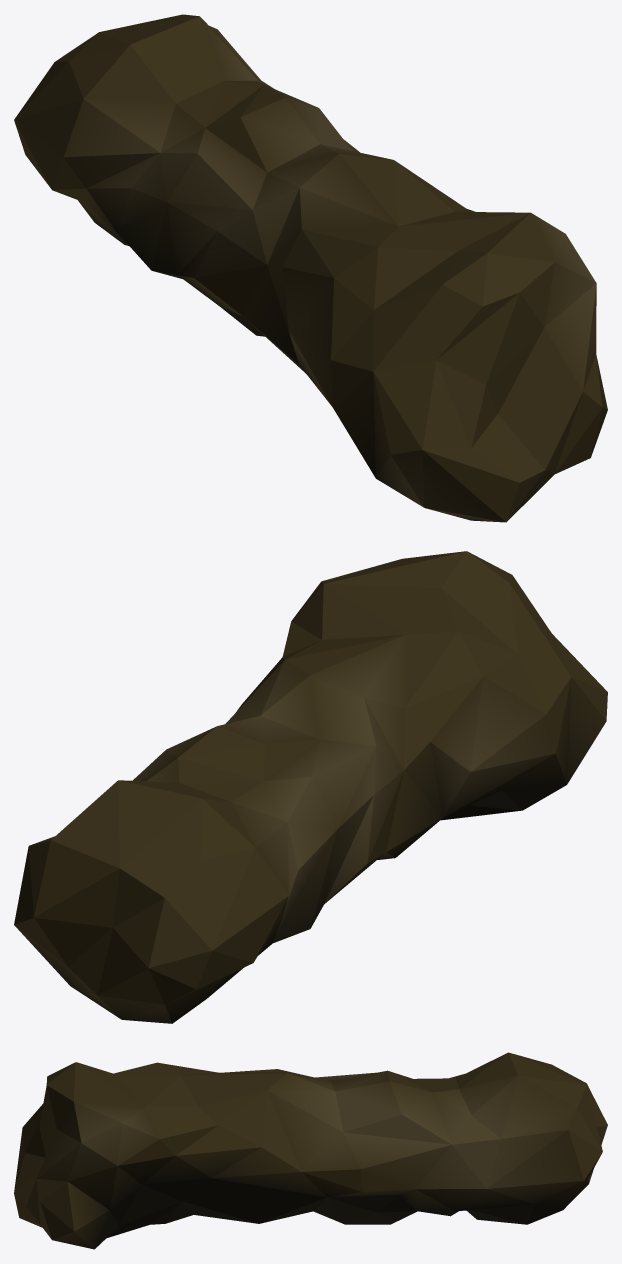
3 views of the same model, one above another, from view 1: azimuth 30°, elevation 25°; view 2: azimuth 150°, elevation 25°; view 3: azimuth 270°, elevation 25° (orthographic). The views are drawn at different scales.
Parts seen in each view (by area): view 1: root3; view 2: root3; view 3: root3.
Boxes of the visible parts, bbox=[...] form: root3: bbox=[14, 14, 607, 522]; root3: bbox=[14, 551, 607, 1023]; root3: bbox=[14, 1052, 607, 1249].
Bounding box in the file's own units: 895 × 830 × 2606.
